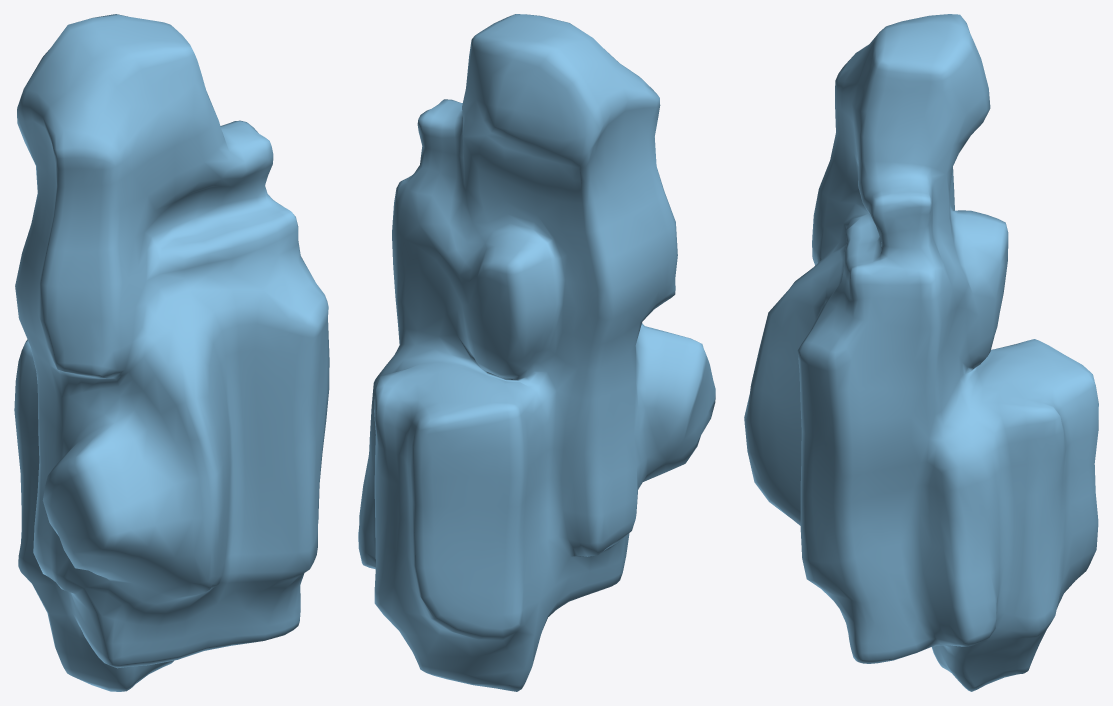
File: LargeRock1.fbx
The picture shows the model from 3 angles, left to right: view 1: azimuth 30°, elevation 25°; view 2: azimuth 150°, elevation 25°; view 3: azimuth 270°, elevation 25°; orthographic projection. The views are drawn at different scales.
Parts seen in each view (by area): view 1: Retopo_Iceburg 1.001; view 2: Retopo_Iceburg 1.001; view 3: Retopo_Iceburg 1.001.
Part boxes in pixels (x1,y1,x2,y2): Retopo_Iceburg 1.001: (14,14,329,691); Retopo_Iceburg 1.001: (358,14,715,691); Retopo_Iceburg 1.001: (744,14,1098,691).
Bounding box in the file's own units: 149 × 334 × 170.
